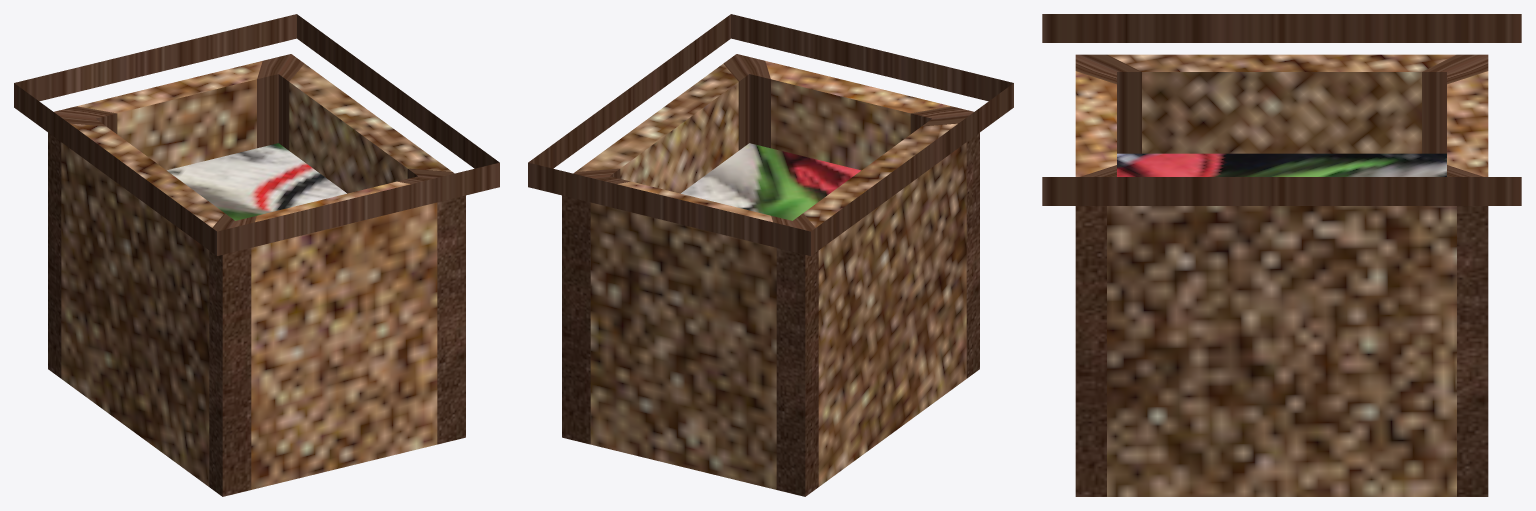
File: cloth store.FBX
3 views of the same model, side by side, from view 1: azimuth 30°, elevation 25°; view 2: azimuth 150°, elevation 25°; view 3: azimuth 270°, elevation 25° (orthographic). The views are drawn at different scales.
Parts seen in each view (by area): view 1: Box001, Object002, Object003, Plane002; view 2: Box001, Object002, Object003, Plane002; view 3: Box001, Object003, Object002, Plane002.
Part boxes in pixels (x1,y1,x2,y2): Box001: (61,61,452,489); Object002: (48,54,465,496); Object003: (14,14,499,255); Plane002: (167,143,346,220); Box001: (575,61,966,489); Object002: (562,54,979,496); Object003: (528,14,1013,255); Plane002: (681,143,860,220); Box001: (1075,54,1488,496); Object003: (1042,14,1521,205); Object002: (1075,54,1488,496); Plane002: (1117,153,1446,176).
Size of the model in its own units: 47.57 by 45.09 by 59.14.
3 materials, 3 textured.
